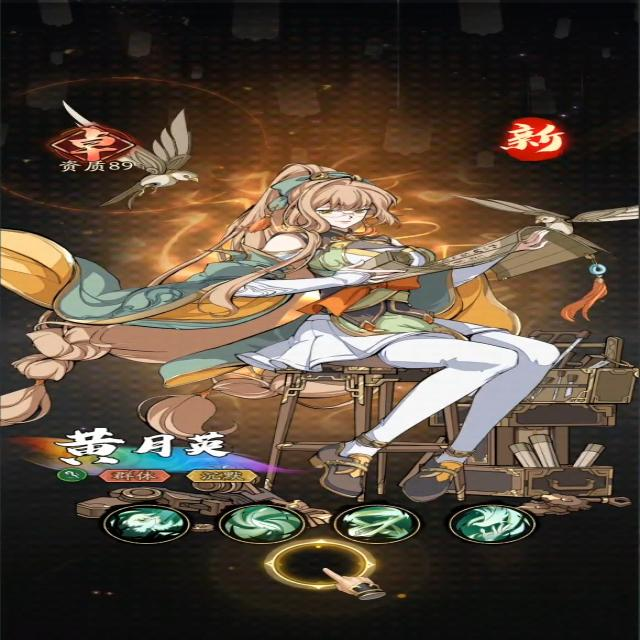hint-guide: (265, 540, 388, 601)
